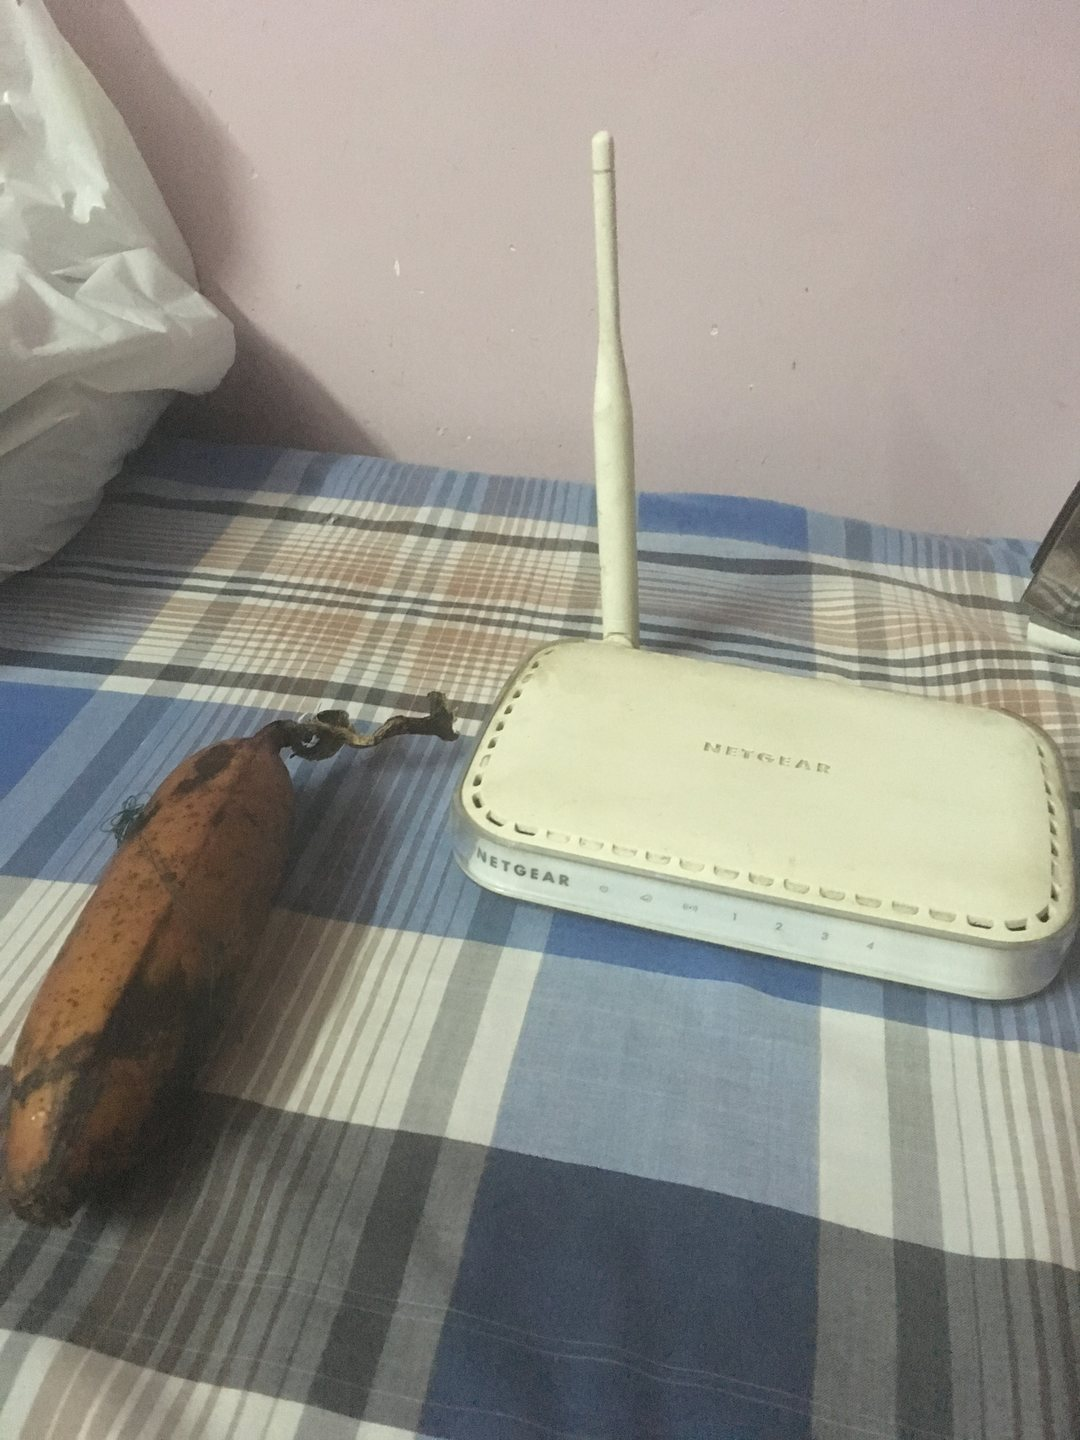NETGEAR: (466, 846, 577, 904)
modem: (444, 818, 1079, 1013)
